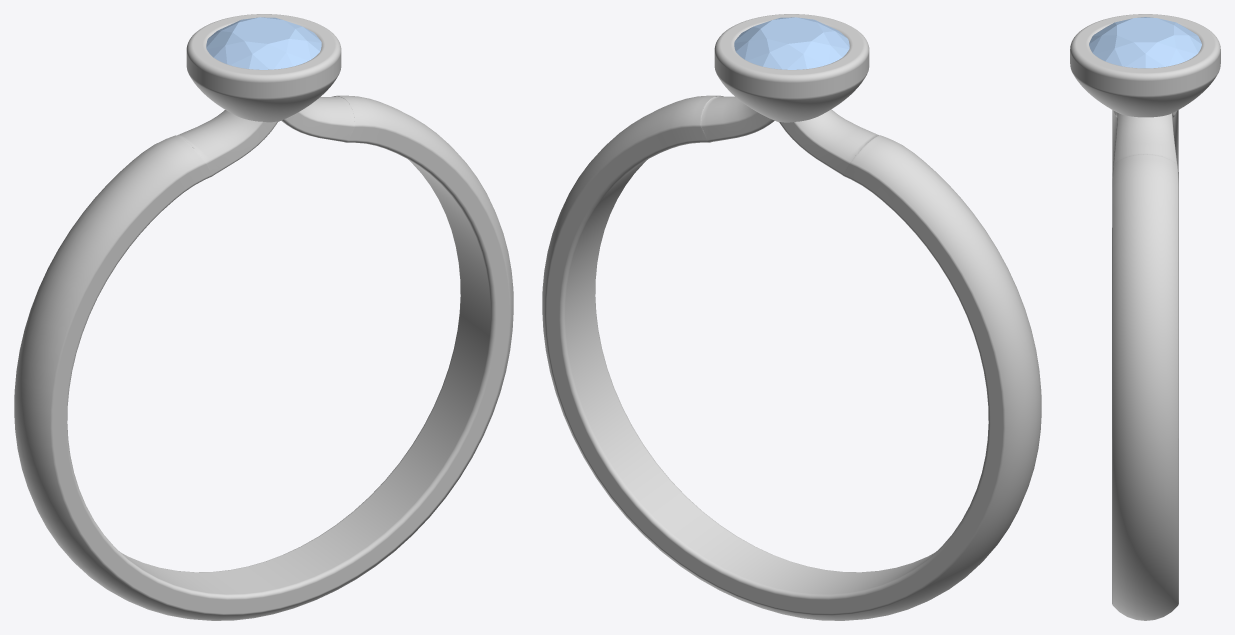
The picture shows the model from 3 angles, left to right: view 1: azimuth 30°, elevation 25°; view 2: azimuth 150°, elevation 25°; view 3: azimuth 270°, elevation 25°; orthographic projection. The views are drawn at different scales.
Parts seen in each view (by area): view 1: anillo solitario exp.3dm, GG_Round; view 2: anillo solitario exp.3dm, GG_Round; view 3: anillo solitario exp.3dm, GG_Round.
Part boxes in pixels (x1,y1,x2,y2): anillo solitario exp.3dm: (14, 14, 513, 620); GG_Round: (206, 17, 321, 69); anillo solitario exp.3dm: (542, 14, 1041, 620); GG_Round: (734, 17, 849, 69); anillo solitario exp.3dm: (1070, 14, 1220, 620); GG_Round: (1089, 17, 1201, 68).
Size of the model in its own units: 2.6 by 2.96 by 0.7143.
